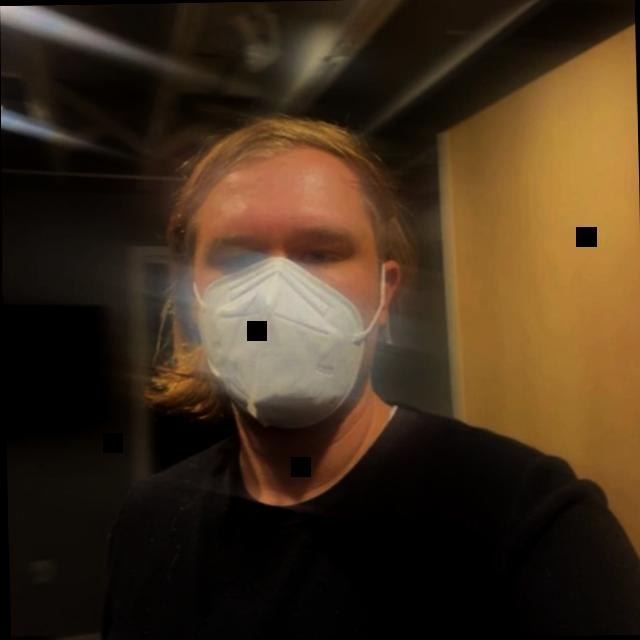Mask: (138, 92, 421, 436)
